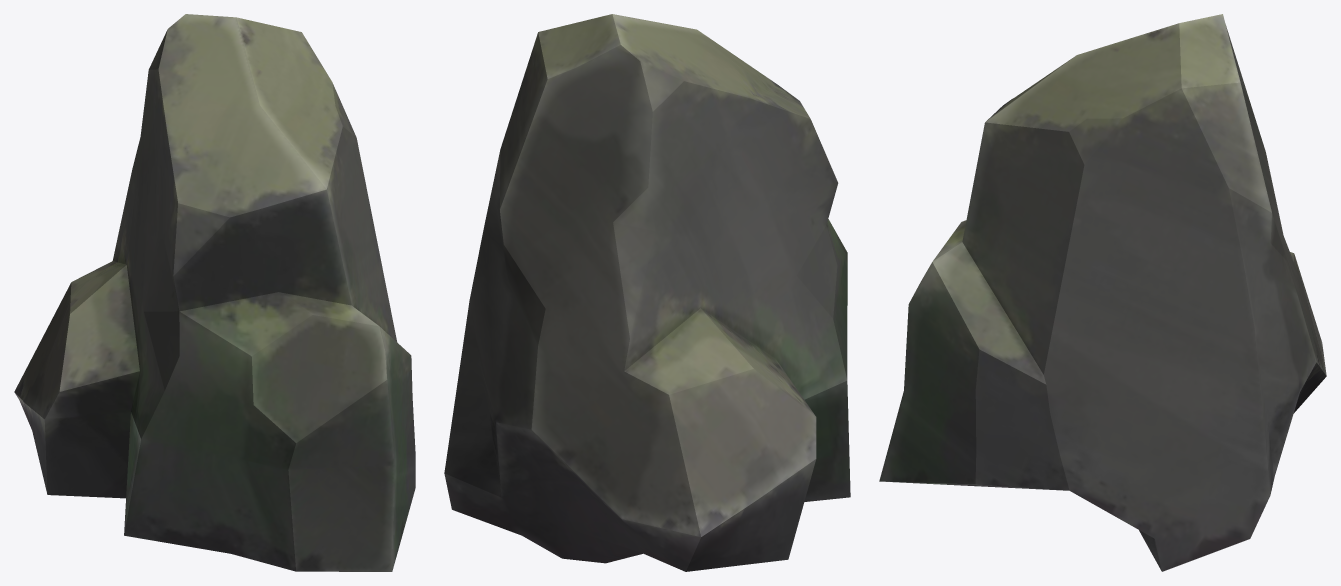
File: Rock_1.gltf
3 views of the same model, side by side, from view 1: azimuth 30°, elevation 25°; view 2: azimuth 150°, elevation 25°; view 3: azimuth 270°, elevation 25° (orthographic). The views are drawn at different scales.
Parts seen in each view (by area): view 1: Rock_1; view 2: Rock_1; view 3: Rock_1.
Part boxes in pixels (bbox=[...]): Rock_1: bbox=[14, 14, 415, 571]; Rock_1: bbox=[444, 14, 850, 571]; Rock_1: bbox=[879, 14, 1326, 571].
Bounding box in the file's own units: 0.7107 × 1.08 × 0.8874.
1 material, 1 textured.
